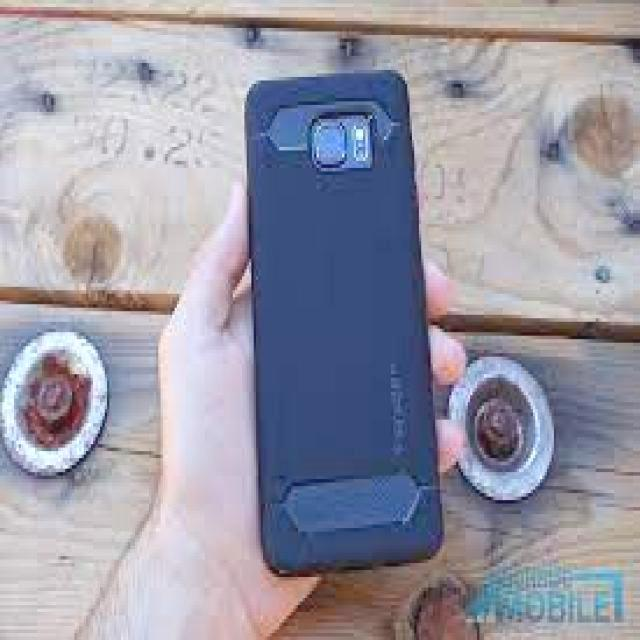lens: (309, 115, 373, 172)
phone: (240, 66, 448, 578)
